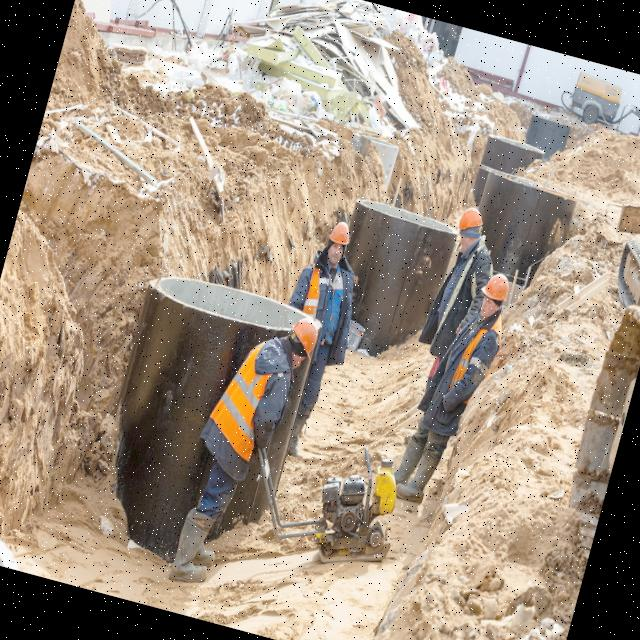Helmet: (218, 337, 295, 462), (285, 317, 325, 363), (479, 270, 514, 310), (454, 205, 489, 245), (327, 218, 356, 252)
